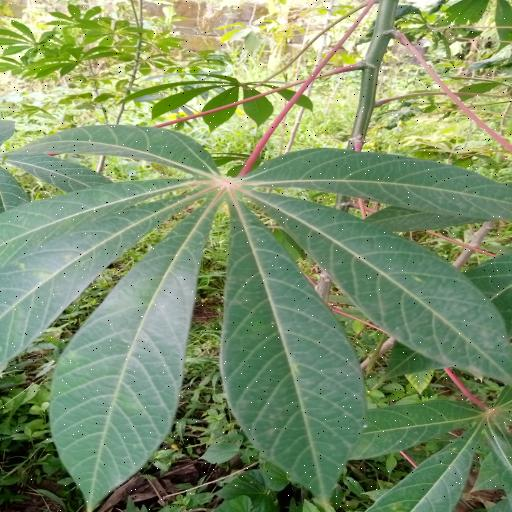Cassava_Healthy: (6, 118, 512, 503)
